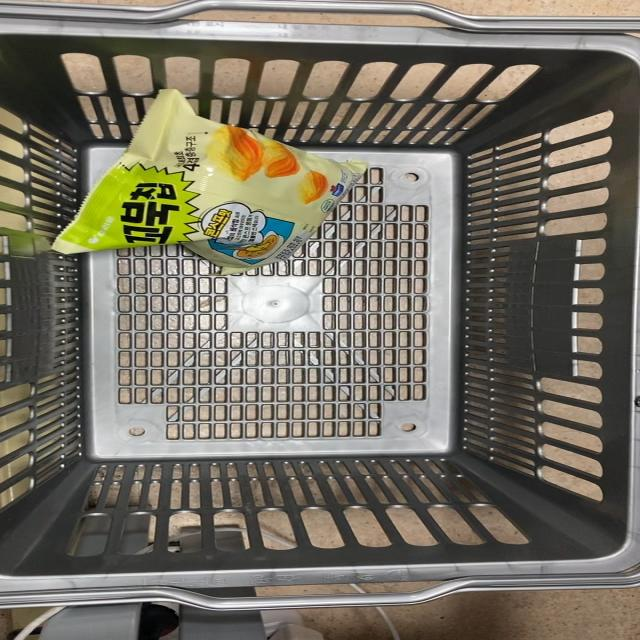ggobukchip: (40, 94, 346, 272)
